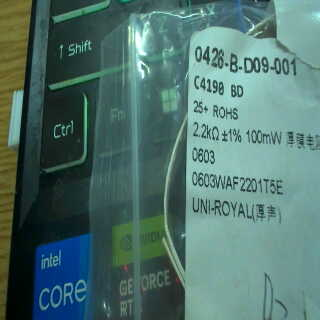2.2kR: (187, 115, 221, 143)
